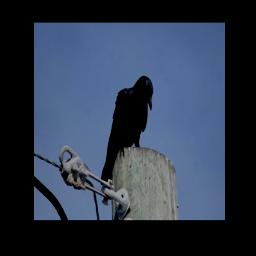Crow: (101, 75, 154, 186)
